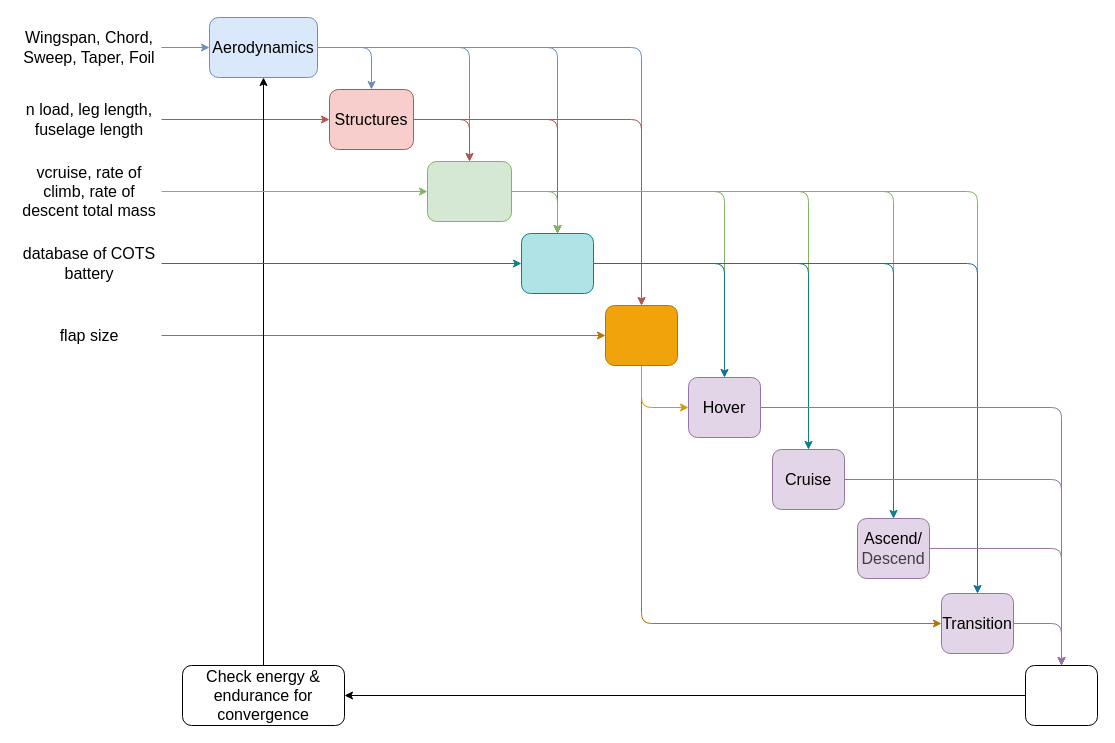
This 1115x743 diagram has some shape labels left out. The shapes that lost their labels are listed below. From the top down, each one's box as (x1, y1, x2, y2) in pixels, then its label:
(426, 160, 512, 222): Propulsion
(520, 232, 594, 294): Battery & Mass
(604, 304, 678, 366): Controls
(1024, 664, 1098, 726): Time
